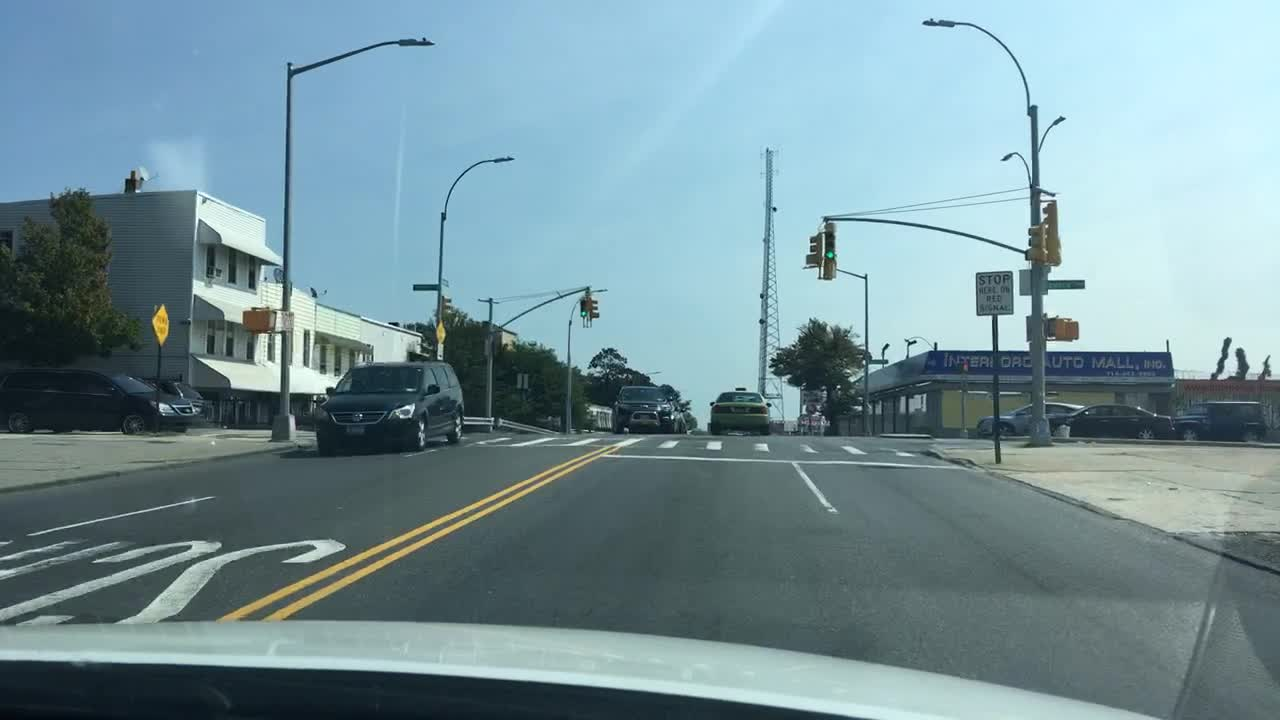car: (310, 357, 467, 457), (0, 362, 205, 435), (1048, 400, 1175, 438), (974, 397, 1085, 437), (1174, 399, 1268, 441), (610, 383, 677, 433), (707, 387, 772, 435), (139, 373, 207, 412), (668, 397, 692, 435)
traffic light: (1041, 198, 1062, 265), (1024, 225, 1047, 263), (241, 310, 278, 332), (1054, 317, 1079, 342), (824, 230, 836, 278), (804, 236, 819, 268), (440, 292, 453, 317), (1044, 315, 1055, 341), (588, 295, 599, 319), (579, 298, 587, 321)
traffic sign: (974, 268, 1013, 317), (1018, 269, 1048, 295), (151, 306, 170, 346), (1025, 314, 1045, 342), (1047, 278, 1086, 290), (259, 265, 282, 284), (798, 390, 821, 403), (516, 373, 530, 391), (410, 282, 437, 291), (437, 318, 445, 342), (434, 342, 442, 360), (440, 278, 450, 286)
